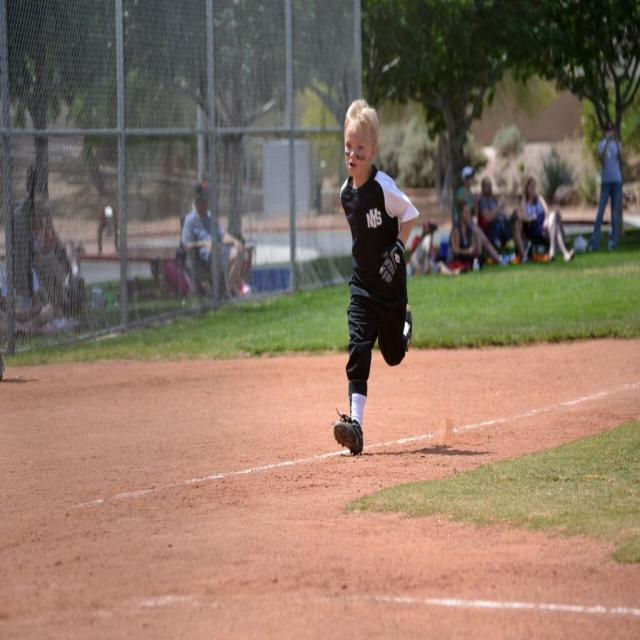Person: (333, 100, 419, 454)
